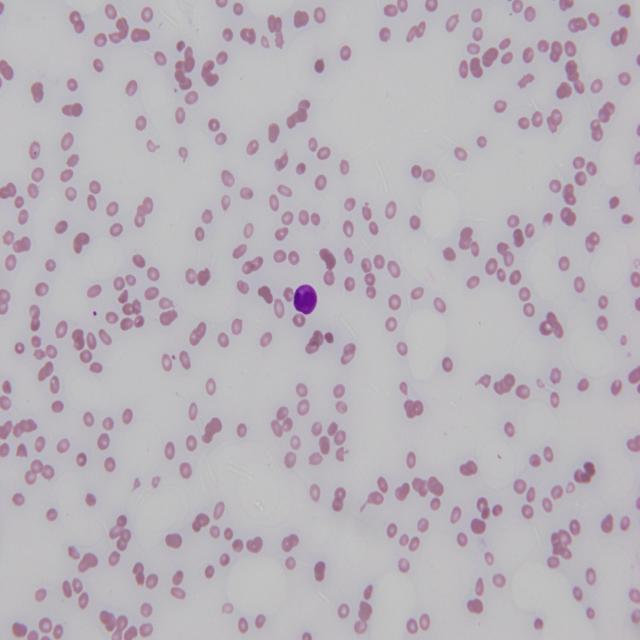cell: (294, 284, 318, 314)
